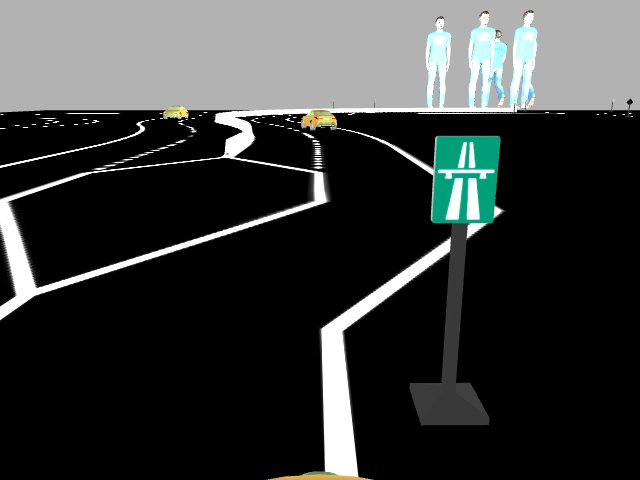HighwayEntrance: (430, 133, 501, 222)
